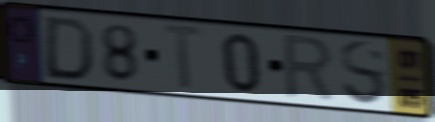0: (219, 31, 264, 95)
8: (98, 22, 141, 84)
D: (41, 14, 96, 84)
R: (282, 32, 339, 107)
S: (338, 38, 389, 109)
T: (160, 21, 209, 93)
